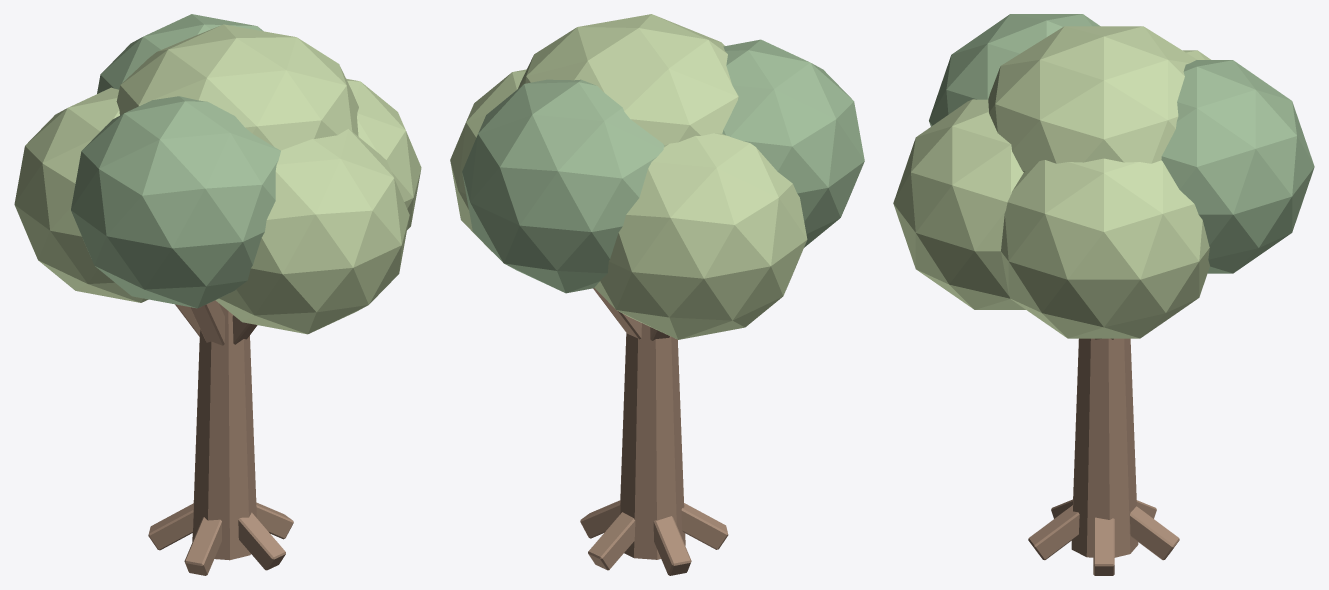
Rendered from tree_oak.fbx.
The picture shows the model from 3 angles, left to right: view 1: azimuth 30°, elevation 25°; view 2: azimuth 150°, elevation 25°; view 3: azimuth 270°, elevation 25°; orthographic projection.
Visible parts, largest first — view 1: tree_oak_mesh; view 2: tree_oak_mesh; view 3: tree_oak_mesh.
Part boxes in pixels (x1,y1,x2,y2): tree_oak_mesh: [14, 14, 421, 575]; tree_oak_mesh: [450, 14, 864, 575]; tree_oak_mesh: [893, 14, 1314, 575].
Bounding box in the file's own units: 2.81 × 3.98 × 2.93.
